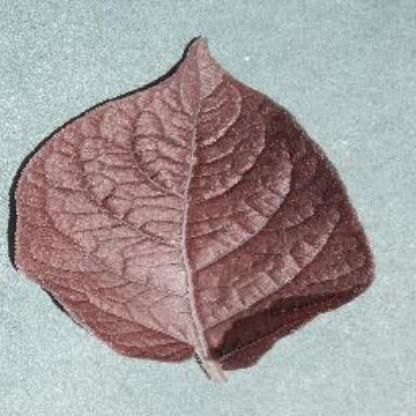Healthy-plant: (10, 37, 392, 384)
